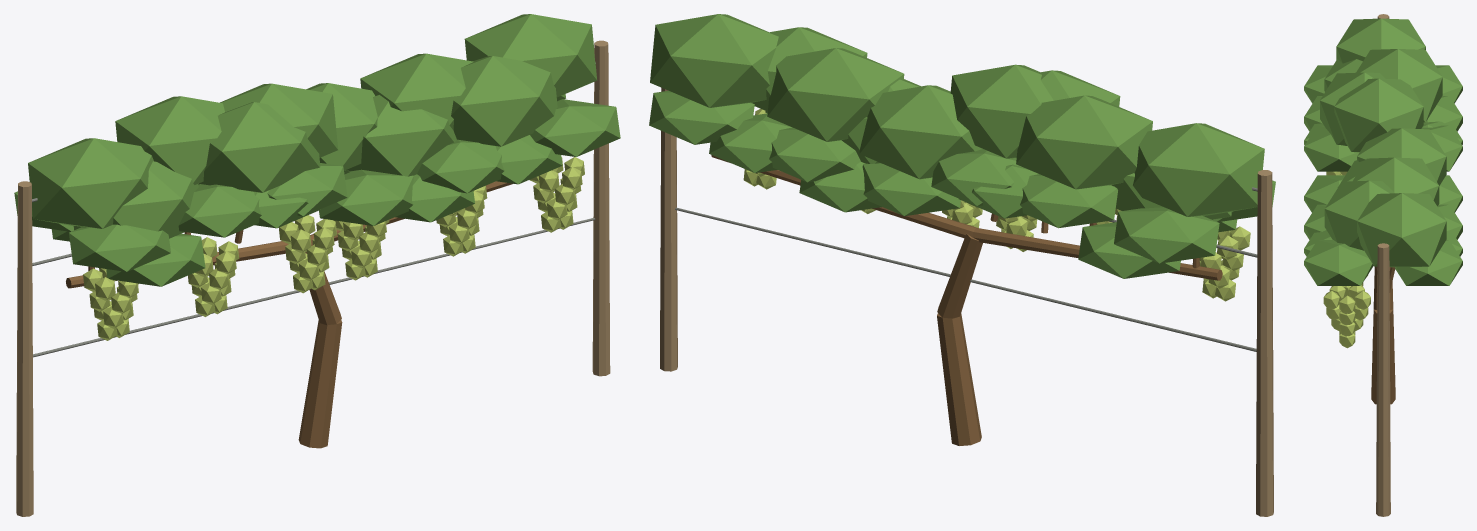
Rendered from grape-3.glb.
The picture shows the model from 3 angles, left to right: view 1: azimuth 30°, elevation 25°; view 2: azimuth 150°, elevation 25°; view 3: azimuth 270°, elevation 25°; orthographic projection. The views are drawn at different scales.
Visible parts, largest first — view 1: grape-3; view 2: grape-3; view 3: grape-3.
Boxes of the visible parts, x1,y1,x2,y2 form: grape-3: (14,14,620,516); grape-3: (649,14,1275,516); grape-3: (1304,14,1462,516).
Bounding box in the file's own units: 3.39 × 2.05 × 0.9653.
